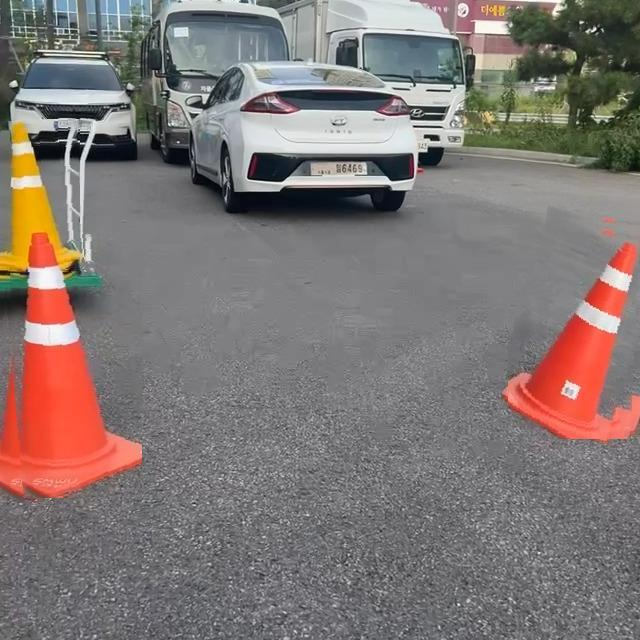fallen_object: (0, 226, 209, 581), (470, 199, 640, 576), (0, 89, 109, 236)
